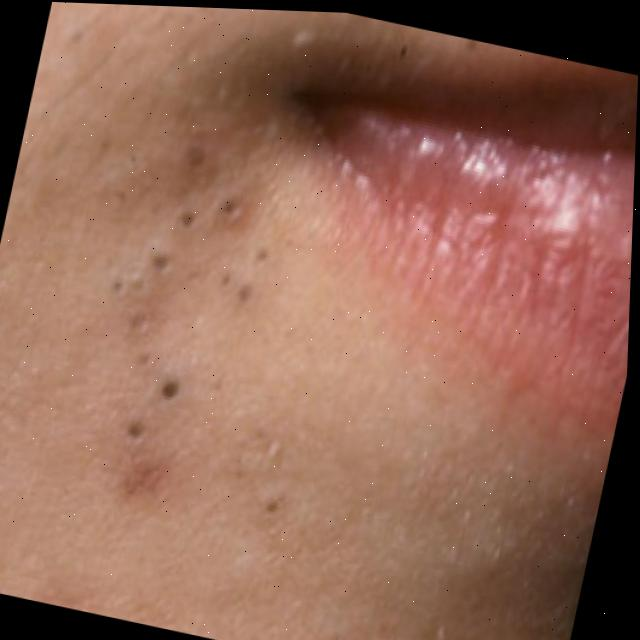Acne: (66, 145, 364, 538)
